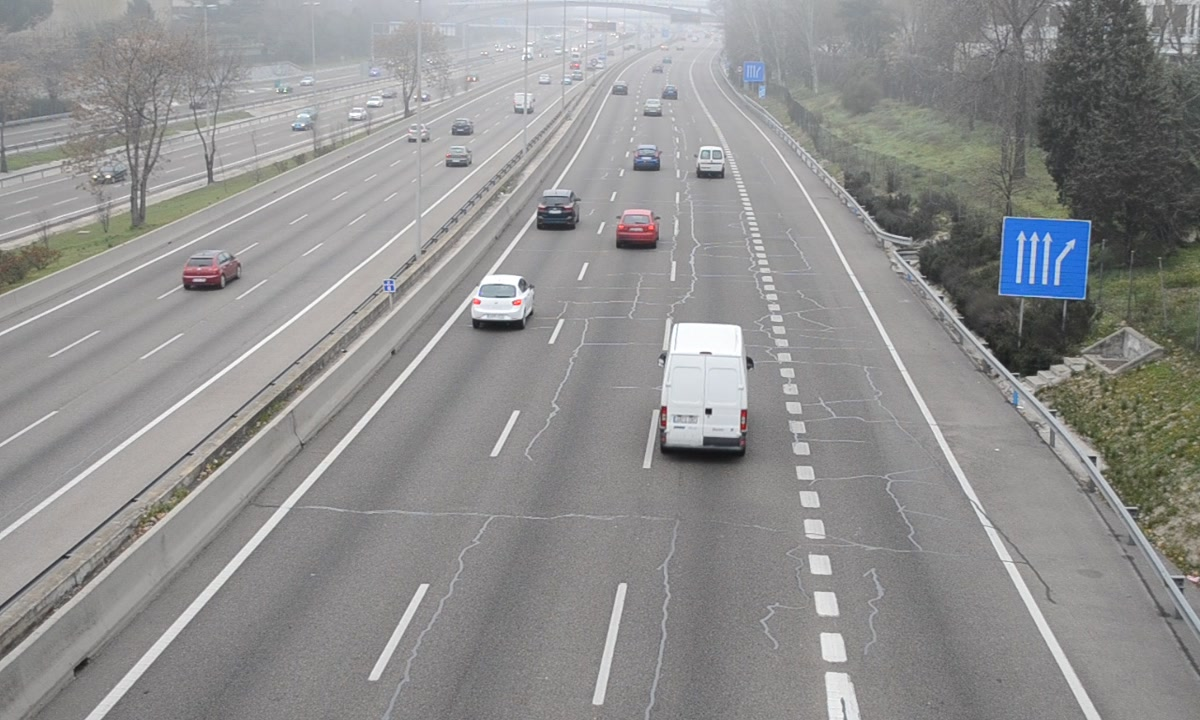car: (469, 276, 534, 323), (536, 188, 581, 232), (616, 209, 659, 248), (632, 144, 662, 172)
van: (659, 323, 747, 455), (695, 144, 728, 181)
